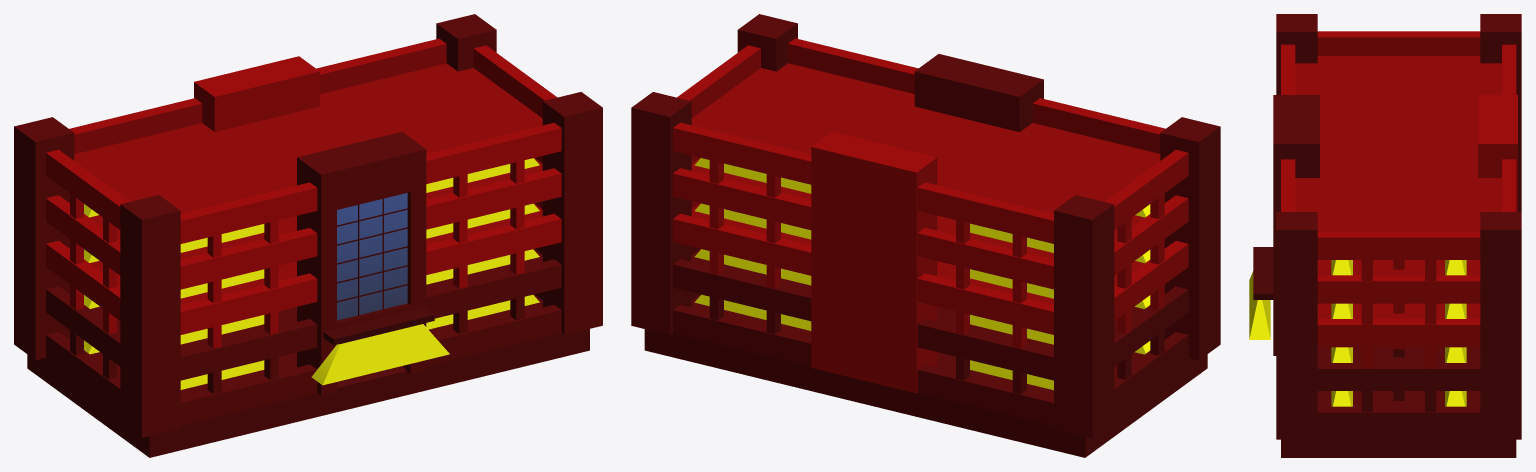
Rendered from buildings-business-parkingstructure_v1.fbx.
3 views of the same model, side by side, from view 1: azimuth 30°, elevation 25°; view 2: azimuth 150°, elevation 25°; view 3: azimuth 270°, elevation 25° (orthographic). The views are drawn at different scales.
Visible parts, largest first — view 1: ParkingStructure_base, ParkingStructure_light, ParkingStructure_windowRefl; view 2: ParkingStructure_base, ParkingStructure_light; view 3: ParkingStructure_base, ParkingStructure_light.
Boxes of the visible parts, x1,y1,x2,y2 form: ParkingStructure_base: (14, 14, 602, 457); ParkingStructure_light: (84, 158, 539, 389); ParkingStructure_windowRefl: (337, 193, 407, 320); ParkingStructure_base: (631, 14, 1220, 457); ParkingStructure_light: (694, 158, 1150, 390); ParkingStructure_base: (1253, 14, 1521, 457); ParkingStructure_light: (1249, 260, 1466, 406).
Size of the model in its own units: 48.36 by 24.56 by 25.77.
